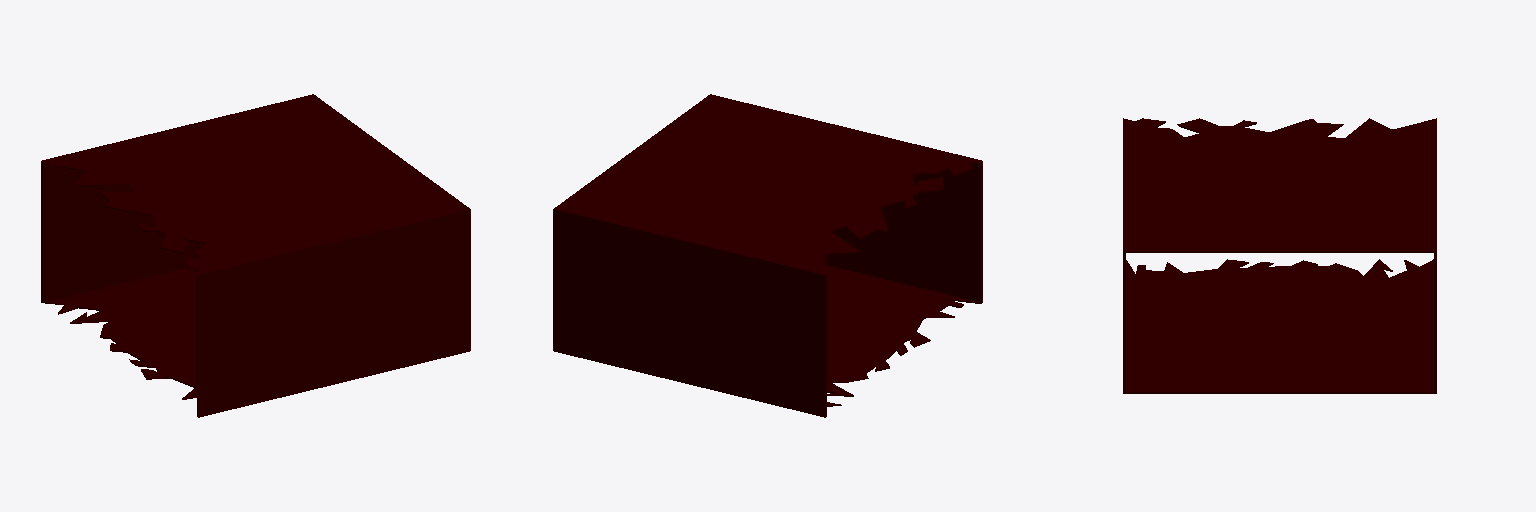
Rendered from cuartoT.obj.
3 views of the same model, side by side, from view 1: azimuth 30°, elevation 25°; view 2: azimuth 150°, elevation 25°; view 3: azimuth 270°, elevation 25° (orthographic).
Visible parts, largest first — view 1: Cube_Cube.001; view 2: Cube_Cube.001; view 3: Cube_Cube.001.
Boxes of the visible parts, box(x1,y1,x2,y2) form: Cube_Cube.001: box(41, 94, 470, 417); Cube_Cube.001: box(553, 94, 982, 417); Cube_Cube.001: box(1123, 118, 1436, 393).
Bounding box in the file's own units: 20 × 10 × 19.95.